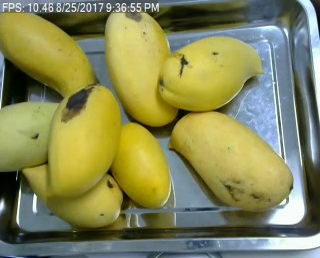Mango: (167, 99, 300, 214), (98, 4, 188, 133), (0, 4, 109, 106), (156, 21, 262, 117), (44, 80, 124, 197), (96, 118, 175, 212), (22, 160, 124, 230), (0, 94, 81, 179)
